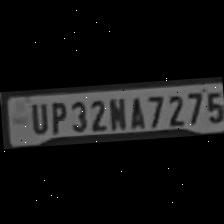2: (162, 90, 184, 125), (86, 96, 106, 130)
3: (64, 96, 86, 130)
5: (202, 87, 222, 123)
7: (181, 88, 202, 124), (142, 91, 164, 125)
A: (124, 92, 146, 128)
N: (104, 93, 126, 129)
P: (46, 98, 66, 132)
U: (25, 99, 47, 134)
